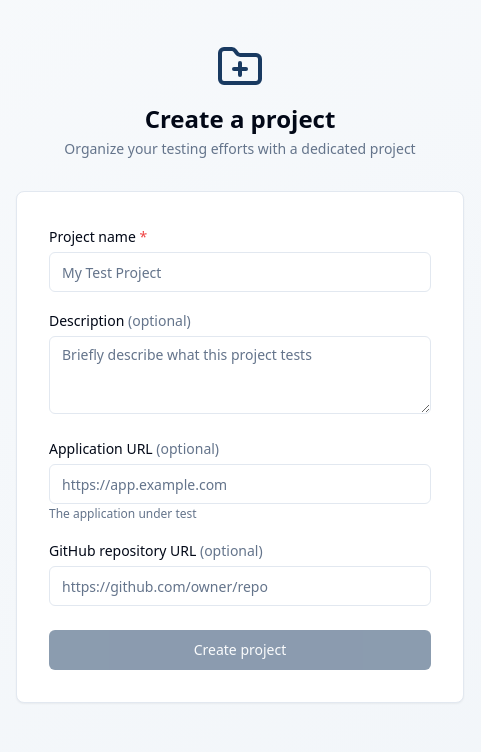
Test: CreateProjectPage › Generic error handling › shows generic error message for non-ApiError exceptions
Type "My Project" into the field with test id "input-project-name". click: {"x": 240, "y": 272}
box: x1=49 y1=252 x2=431 y2=292
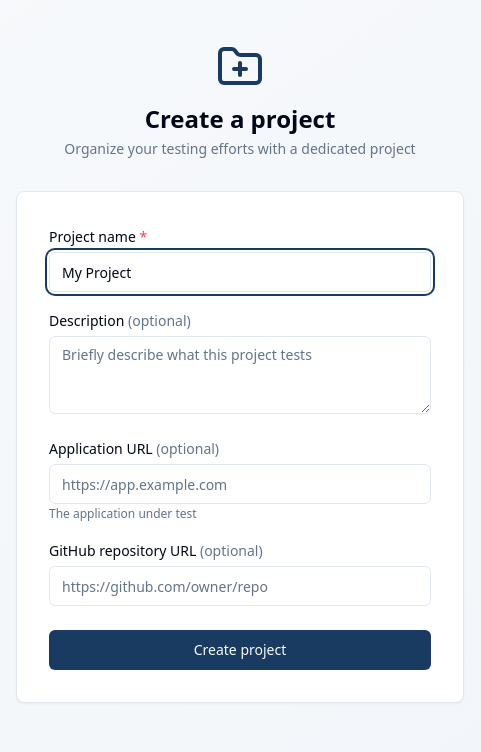
Click the button with test id "submit-btn". click: {"x": 240, "y": 650}
box: x1=49 y1=630 x2=431 y2=670
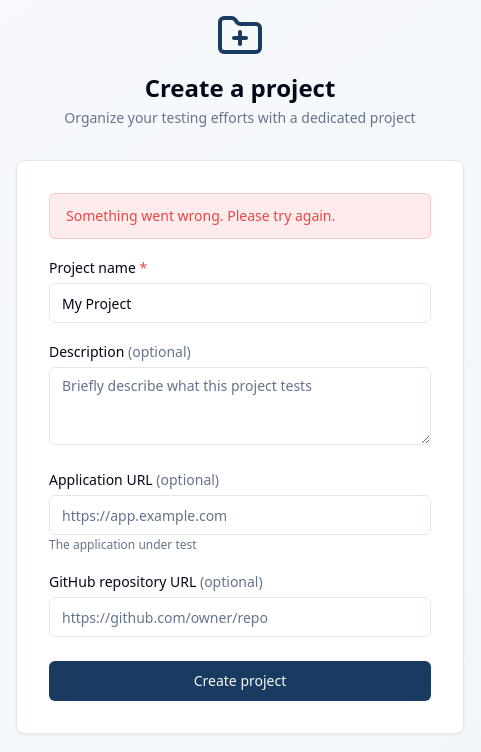
Now the message "Something went wrong. Please try again." is shown, box x1=49 y1=193 x2=431 y2=239
Now the message with test id "server-error" shows "Something went wrong", box x1=66 y1=206 x2=335 y2=225
